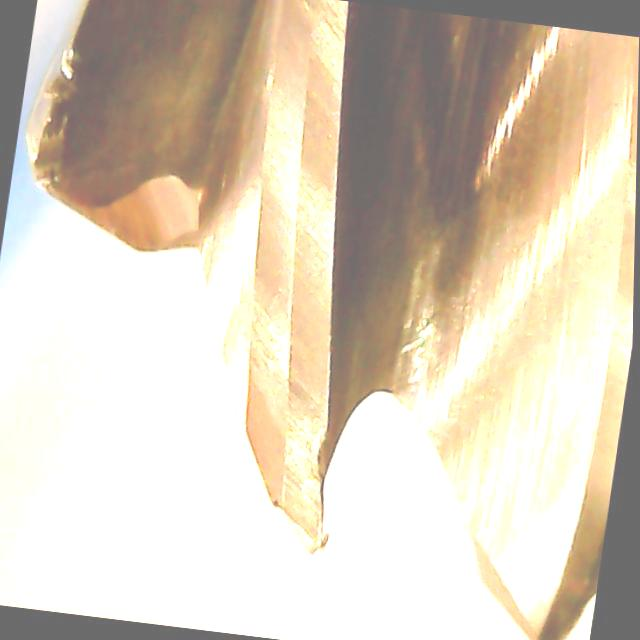Tool-wear-class-1: (218, 320, 372, 561)
